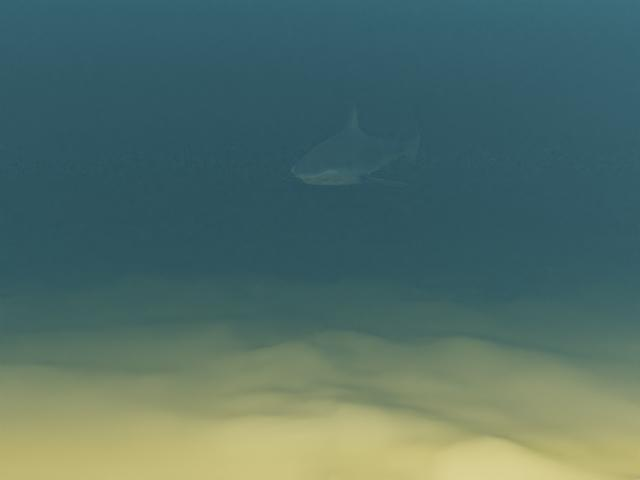Carribean Shark.001: (279, 100, 425, 189)
